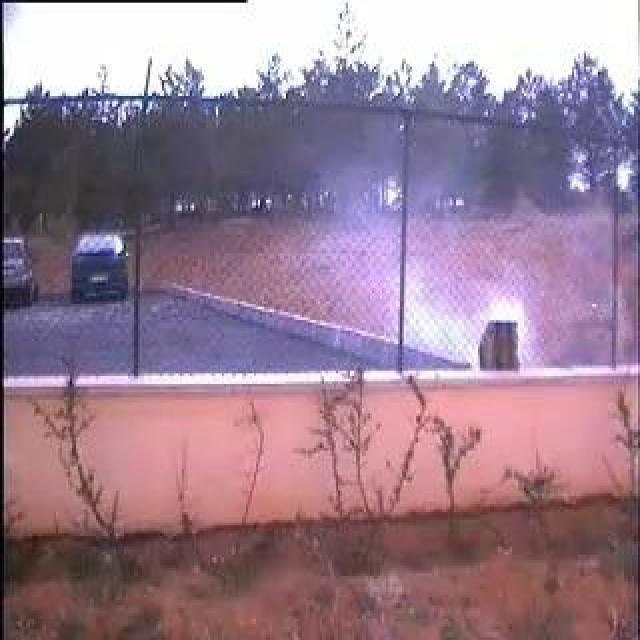Smoke: (393, 271, 525, 369)
